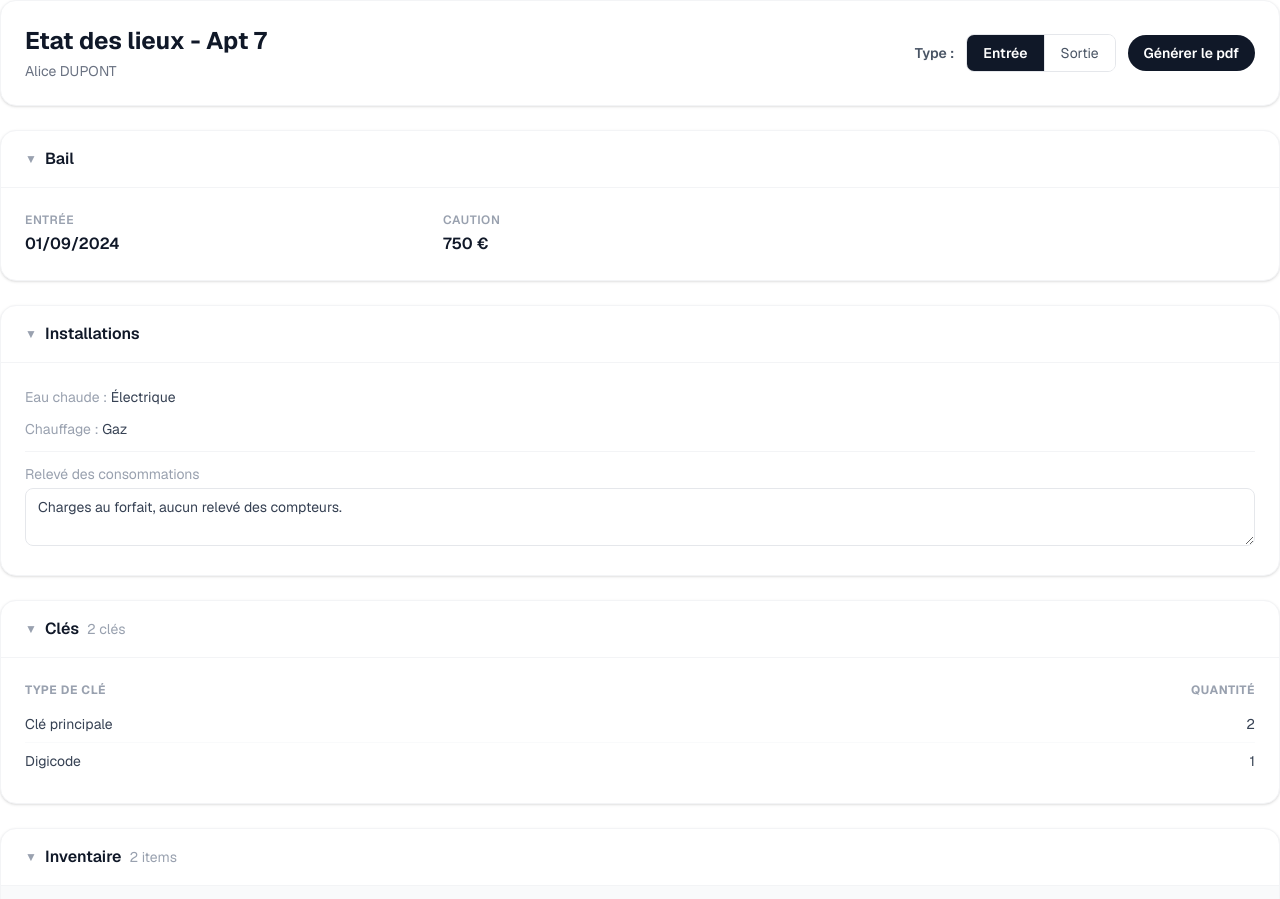
it: EdlFigeView — blocs collapsibles › replie le bloc Clés au clic sur son en-tête
Check: the text "Clé principale" is shown, box [25,706,736,742]
Click the button "▼ Clés 2 clés" at (75, 629), box [25,617,126,641]
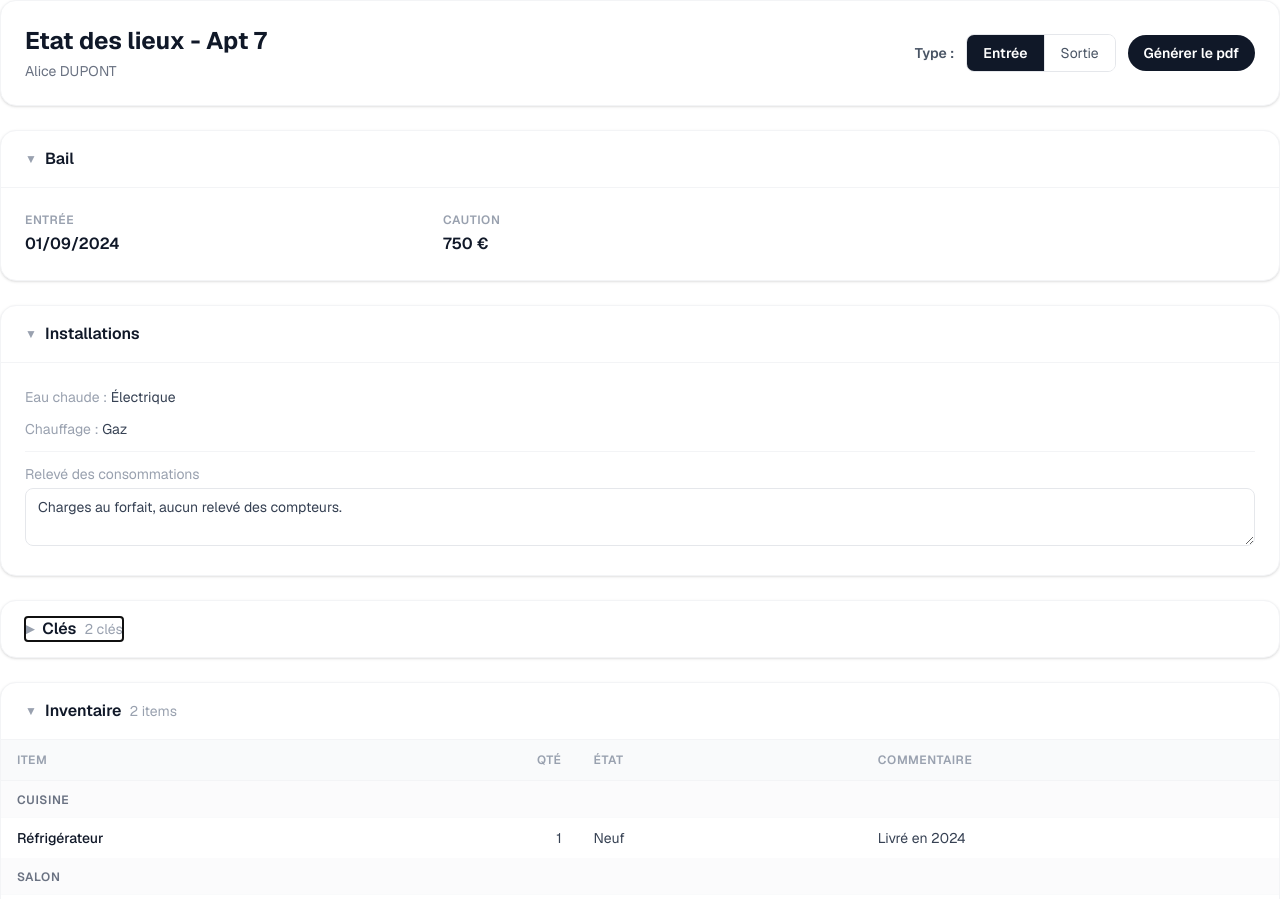
Check: the text "Clé principale" is gone
